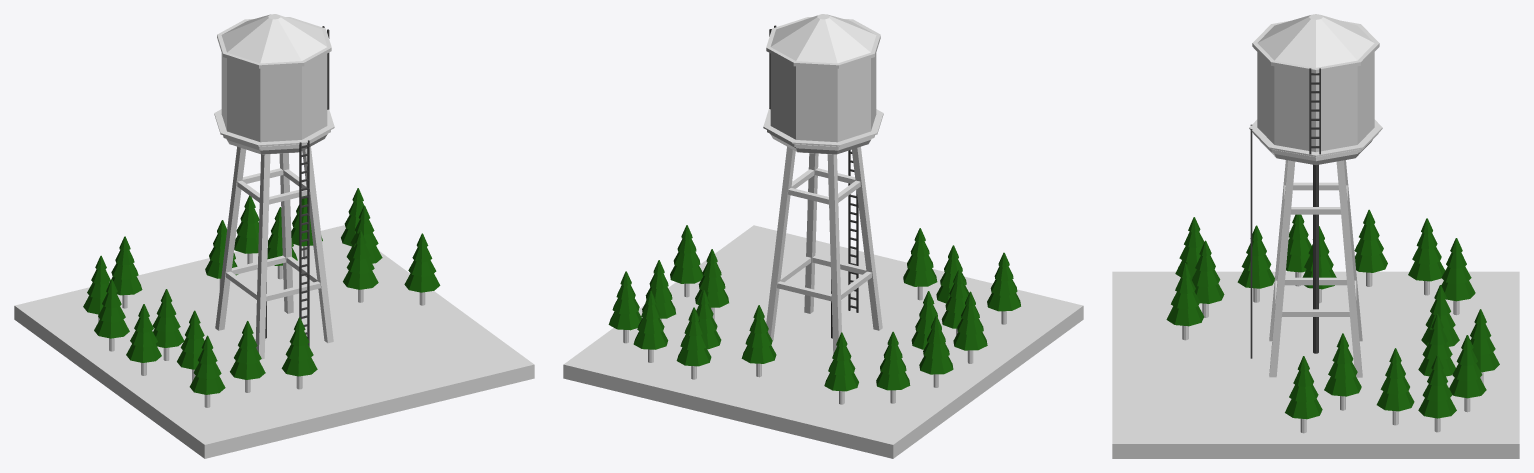
The model's file is water tower.fbx.
3 views of the same model, side by side, from view 1: azimuth 30°, elevation 25°; view 2: azimuth 150°, elevation 25°; view 3: azimuth 270°, elevation 25° (orthographic). The views are drawn at different scales.
Visible parts, largest first — view 1: Cube, Cylinder.001, Cylinder.035, Cylinder.014, Cylinder.018, Cylinder.013, Cylinder.020, Cylinder.016, Cylinder.037, Cylinder.015, Cylinder.044, Cylinder.032 (+7 smaller); view 2: Cube, Cylinder.001, Cylinder.020, Cylinder.016, Cylinder.035, Cylinder.018, Cylinder.017, Cylinder.032, Cylinder.043, Cylinder.007, Cylinder.044, Cylinder.014 (+7 smaller); view 3: Cube, Cylinder.001, Cylinder.006, Cylinder.007, Cylinder.014, Cylinder.012, Cylinder.035, Cylinder.013, Cylinder.017, Cylinder.016, Cylinder.044, Cylinder.019 (+7 smaller).
Part boxes in pixels (x1=…): Cube: x1=14, y1=225, x2=534, y2=458; Cylinder.001: x1=214, y1=14, x2=334, y2=359; Cylinder.035: x1=281, y1=317, x2=317, y2=389; Cylinder.014: x1=404, y1=233, x2=440, y2=305; Cylinder.018: x1=189, y1=335, x2=225, y2=407; Cylinder.013: x1=343, y1=230, x2=378, y2=302; Cylinder.020: x1=126, y1=304, x2=161, y2=375; Cylinder.016: x1=94, y1=279, x2=129, y2=351; Cylinder.037: x1=230, y1=321, x2=265, y2=392; Cylinder.015: x1=152, y1=289, x2=184, y2=360; Cylinder.044: x1=109, y1=236, x2=142, y2=308; Cylinder.032: x1=234, y1=195, x2=259, y2=264; Cube: x1=563, y1=225, x2=1083, y2=458; Cylinder.001: x1=763, y1=14, x2=883, y2=353; Cylinder.020: x1=953, y1=291, x2=987, y2=363; Cylinder.016: x1=919, y1=315, x2=953, y2=387; Cylinder.035: x1=903, y1=228, x2=937, y2=300; Cylinder.018: x1=987, y1=252, x2=1020, y2=324; Cylinder.017: x1=876, y1=331, x2=910, y2=403; Cylinder.032: x1=676, y1=307, x2=711, y2=379; Cylinder.043: x1=741, y1=305, x2=776, y2=377; Cylinder.007: x1=633, y1=291, x2=668, y2=362; Cylinder.044: x1=824, y1=332, x2=858, y2=404; Cylinder.014: x1=670, y1=225, x2=703, y2=297; Cube: x1=1112, y1=271, x2=1519, y2=458; Cylinder.001: x1=1249, y1=14, x2=1382, y2=377; Cylinder.006: x1=1418, y1=355, x2=1456, y2=432; Cylinder.007: x1=1449, y1=335, x2=1486, y2=412; Cylinder.014: x1=1285, y1=356, x2=1322, y2=433; Cylinder.012: x1=1376, y1=348, x2=1414, y2=425; Cylinder.035: x1=1166, y1=263, x2=1204, y2=340; Cylinder.013: x1=1324, y1=333, x2=1361, y2=410; Cylinder.017: x1=1408, y1=218, x2=1445, y2=295; Cylinder.016: x1=1354, y1=209, x2=1387, y2=286; Cylinder.044: x1=1441, y1=238, x2=1475, y2=315; Cylinder.019: x1=1237, y1=225, x2=1274, y2=302.
Bounding box in the file's own units: 1818 × 1752 × 1818.
